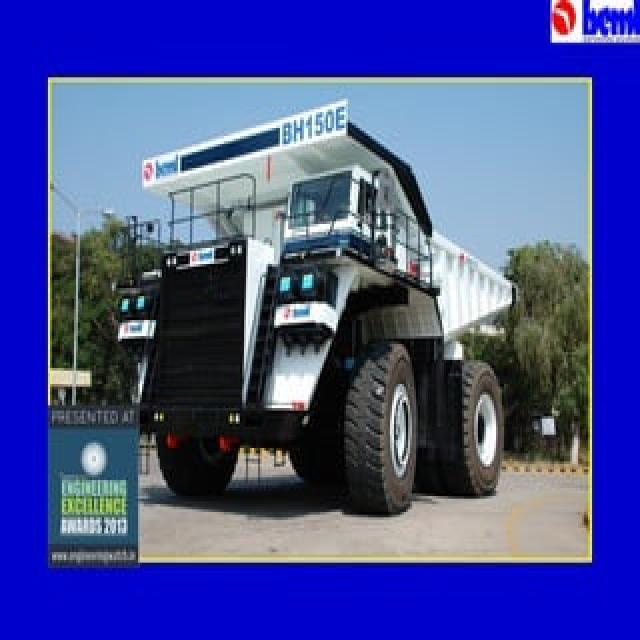dump_truck: (128, 102, 512, 510)
